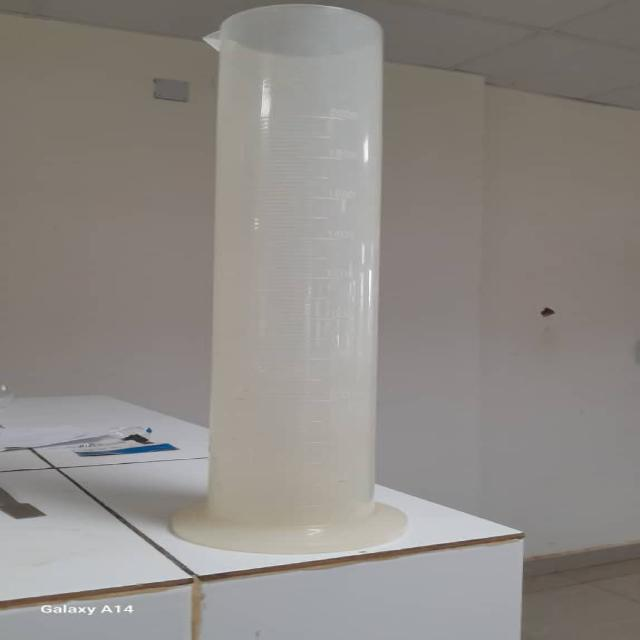Measuring Cylinder: (189, 4, 413, 551)
